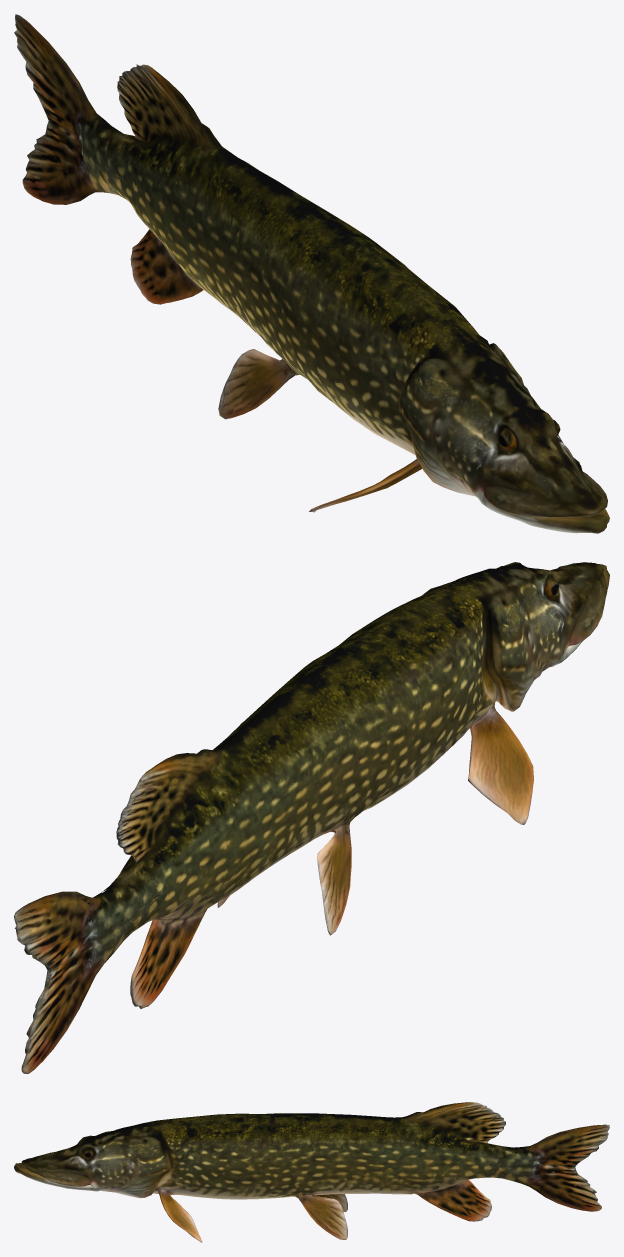
Rendered from fish-pike.glb.
3 renders of one model, top to bottom at view 1: azimuth 30°, elevation 25°; view 2: azimuth 150°, elevation 25°; view 3: azimuth 270°, elevation 25°, orthographic. The views are drawn at different scales.
Parts seen in each view (by area): view 1: geometry_0; view 2: geometry_0; view 3: geometry_0.
Boxes of the visible parts, <box> form: geometry_0: <box>14,14,609,533</box>; geometry_0: <box>14,562,609,1073</box>; geometry_0: <box>14,1102,609,1242</box>.
Size of the model in its own units: 0.2046 by 0.2183 by 0.9541.
Materials: 1 (1 with a texture image).
